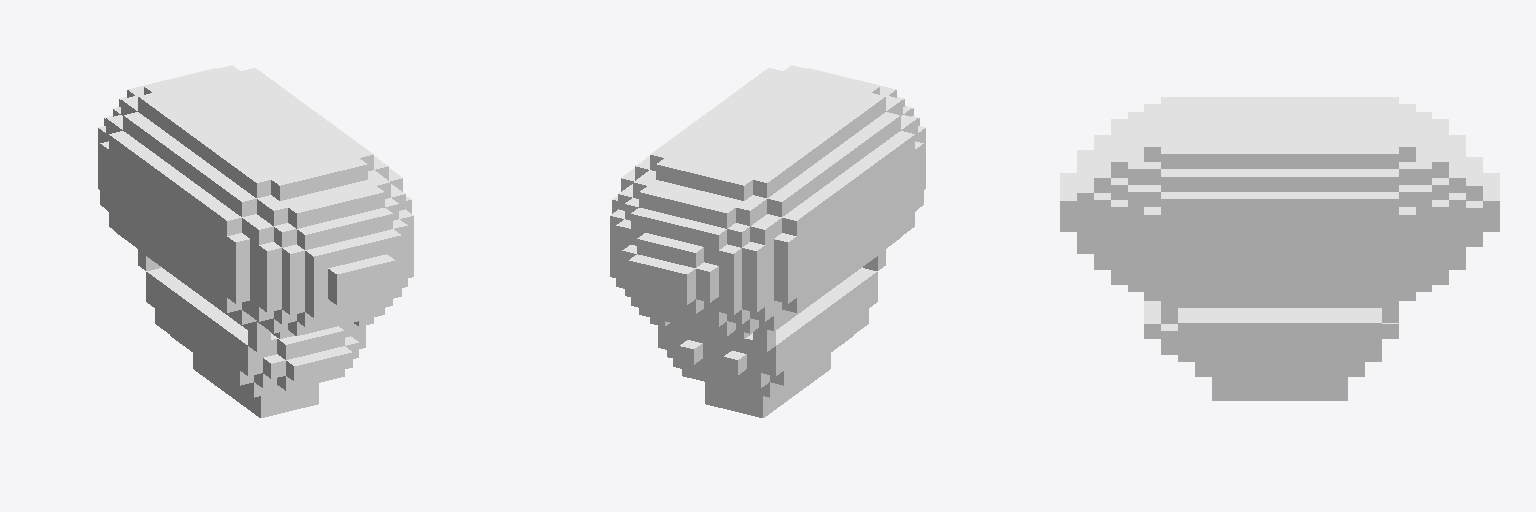
The model's file is Merchant.obj.
The picture shows the model from 3 angles: view 1: azimuth 30°, elevation 25°; view 2: azimuth 150°, elevation 25°; view 3: azimuth 270°, elevation 25°; orthographic projection.
Visible parts, largest first — view 1: object 1; view 2: object 1; view 3: object 1.
Part boxes in pixels (x1,y1,x2,y2): object 1: (98,65,413,417); object 1: (610,65,925,417); object 1: (1060,97,1499,400).
Size of the model in its own units: 1.2 by 1.7 by 2.6.